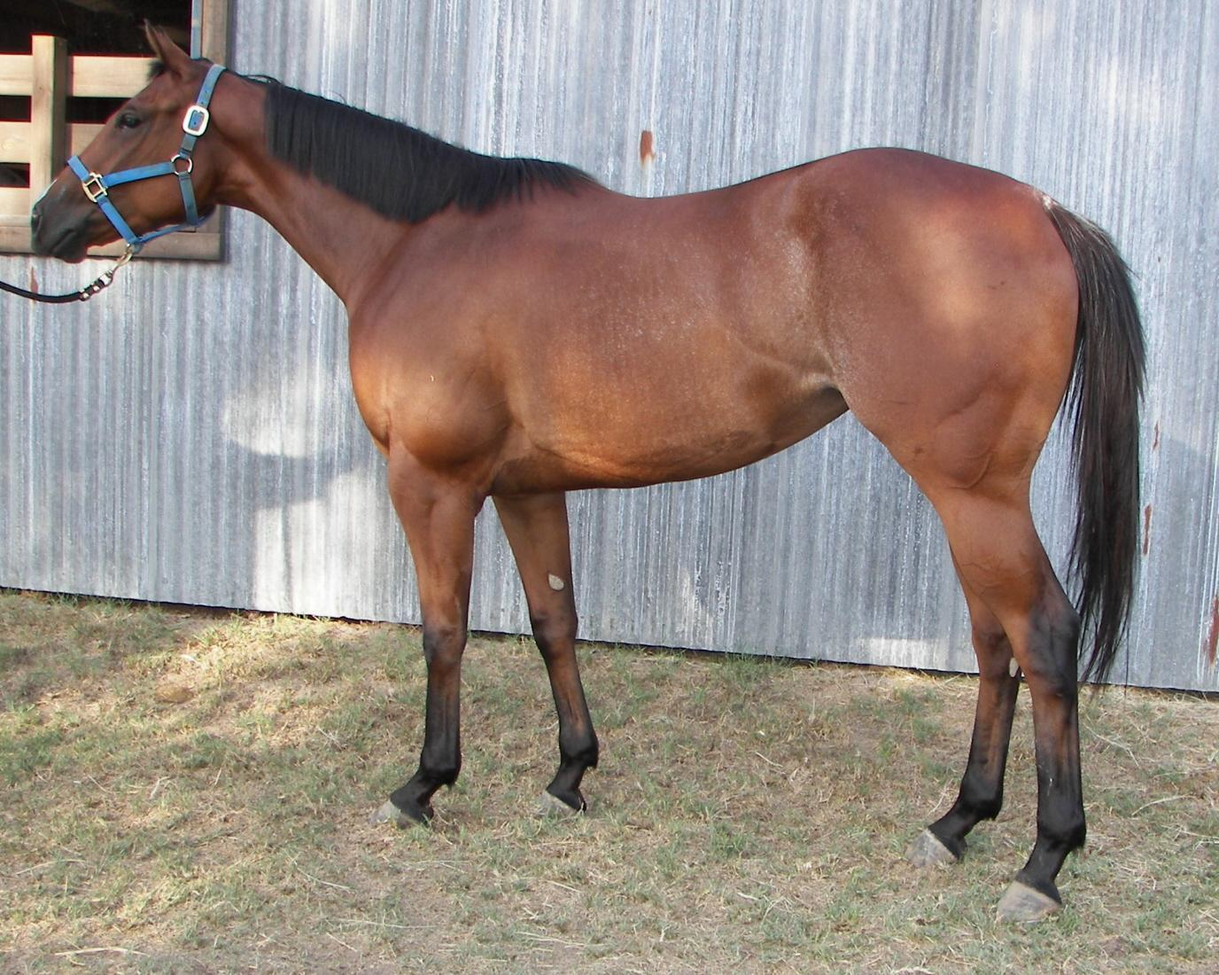horse: (22, 12, 1165, 941)
